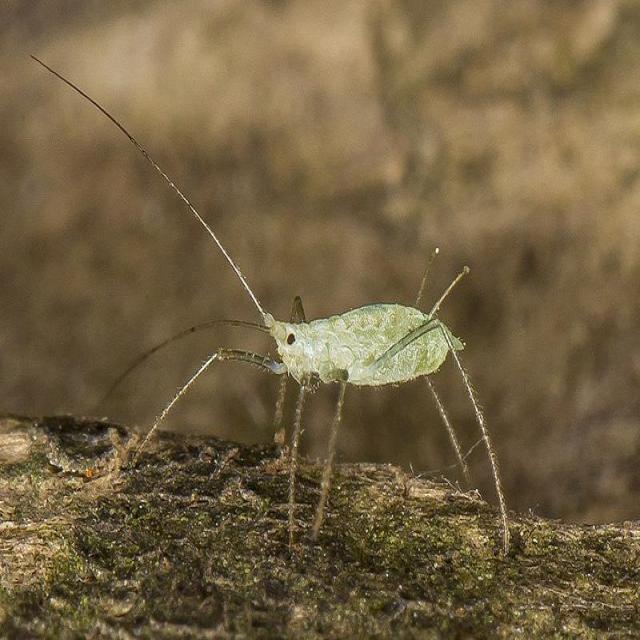Aphids: (48, 65, 530, 593)
